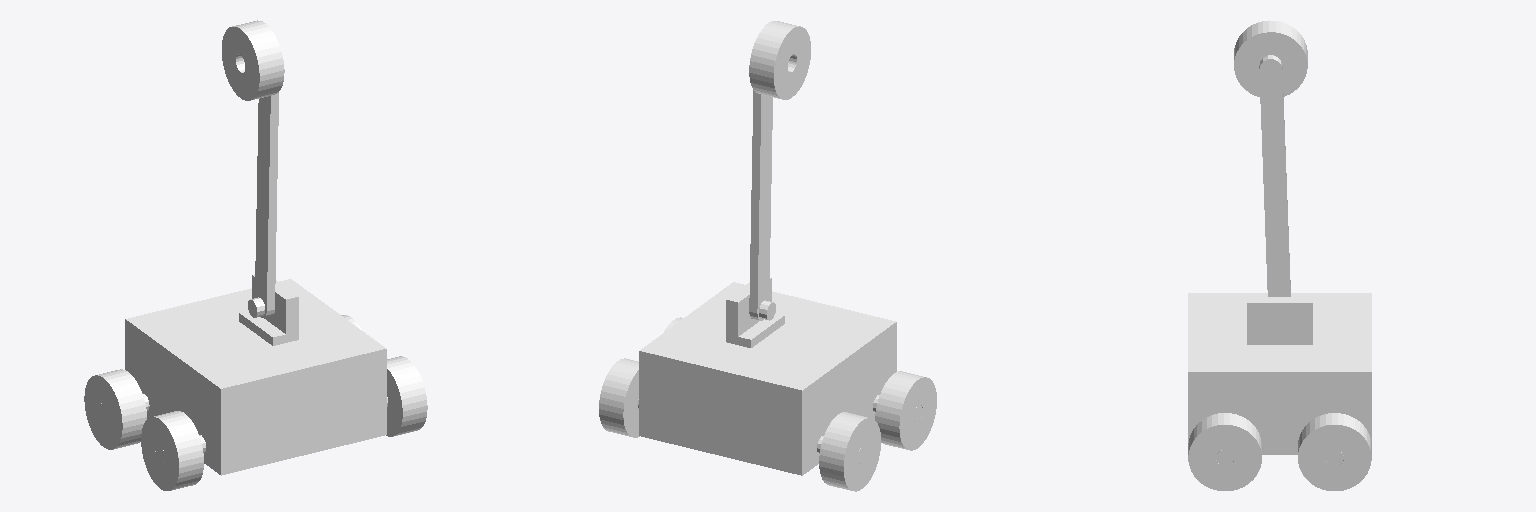
robot.urdf — cart_pole:
<?xml version="1.0" encoding="utf-8"?>
<!-- This URDF was automatically created by SolidWorks to URDF Exporter! Originally created by [author] ([email redacted]) 
     Commit Version: 1.6.0-4-g7f85cfe  Build Version: 1.6.7995.38578
     For more information, please see http://wiki.ros.org/sw_urdf_exporter -->
<robot
  name="cart_pole">
  <link
    name="cart_base">
    <inertial>
      <origin
        xyz="0.031587 -0.029208 -0.026207"
        rpy="0 0 0" />
      <mass
        value="0.1" />
      <inertia
        ixx="0.017372"
        ixy="-0.00010516"
        ixz="-2.9016E-18"
        iyy="0.027945"
        iyz="2.5673E-21"
        izz="0.018149" />
    </inertial>
    <visual>
      <origin
        xyz="0 0 0"
        rpy="0 0 0" />
      <geometry>
        <mesh
          filename="package://cart_pole/meshes/cart_base.STL" />
      </geometry>
      <material
        name="">
        <color
          rgba="1 1 1 1" />
      </material>
    </visual>
    <collision>
      <origin
        xyz="0 0 0"
        rpy="0 0 0" />
      <geometry>
        <mesh
          filename="package://cart_pole/meshes/cart_base.STL" />
      </geometry>
    </collision>
  </link>
  <link
    name="left_front_link">
    <inertial>
      <origin
        xyz="6.245E-17 0.015 4.1633E-17"
        rpy="0 0 0" />
      <mass
        value="0.02" />
      <inertia
        ixx="7.0686E-05"
        ixy="-3.1704E-21"
        ixz="-6.7763E-21"
        iyy="0.00012017"
        iyz="6.3162E-21"
        izz="7.0686E-05" />
    </inertial>
    <visual>
      <origin
        xyz="0 0 0"
        rpy="0 0 0" />
      <geometry>
        <mesh
          filename="package://cart_pole/meshes/left_front_link.STL" />
      </geometry>
      <material
        name="">
        <color
          rgba="1 1 1 1" />
      </material>
    </visual>
    <collision>
      <origin
        xyz="0 0 0"
        rpy="0 0 0" />
      <geometry>
        <mesh
          filename="package://cart_pole/meshes/left_front_link.STL" />
      </geometry>
    </collision>
  </link>
  <joint
    name="left_front_joint"
    type="continuous">
    <origin
      xyz="0.15124 -0.03312 -0.060033"
      rpy="0 -0.46823 -1.5708" />
    <parent
      link="cart_base" />
    <child
      link="left_front_link" />
    <axis
      xyz="0 1 0" />
  </joint>
  <link
    name="right_front_link">
    <inertial>
      <origin
        xyz="1.3878E-17 0.015 -6.9389E-18"
        rpy="0 0 0" />
      <mass
        value="0.02" />
      <inertia
        ixx="7.0686E-05"
        ixy="5.3672E-21"
        ixz="1.1235E-36"
        iyy="0.00012017"
        iyz="6.2384E-21"
        izz="7.0686E-05" />
    </inertial>
    <visual>
      <origin
        xyz="0 0 0"
        rpy="0 0 0" />
      <geometry>
        <mesh
          filename="package://cart_pole/meshes/right_front_link.STL" />
      </geometry>
      <material
        name="">
        <color
          rgba="1 1 1 1" />
      </material>
    </visual>
    <collision>
      <origin
        xyz="0 0 0"
        rpy="0 0 0" />
      <geometry>
        <mesh
          filename="package://cart_pole/meshes/right_front_link.STL" />
      </geometry>
    </collision>
  </link>
  <joint
    name="right_front_joint"
    type="continuous">
    <origin
      xyz="-0.088761 -0.03312 -0.060033"
      rpy="1.5708 -1.5708 0" />
    <parent
      link="cart_base" />
    <child
      link="right_front_link" />
    <axis
      xyz="0 -1 0" />
  </joint>
  <link
    name="left_rare_link">
    <inertial>
      <origin
        xyz="-1.3878E-17 0.015 0"
        rpy="0 0 0" />
      <mass
        value="0.02" />
      <inertia
        ixx="7.0686E-05"
        ixy="-5.3672E-21"
        ixz="-5.0342E-37"
        iyy="0.00012017"
        iyz="-7.8266E-21"
        izz="7.0686E-05" />
    </inertial>
    <visual>
      <origin
        xyz="0 0 0"
        rpy="0 0 0" />
      <geometry>
        <mesh
          filename="package://cart_pole/meshes/left_rare_link.STL" />
      </geometry>
      <material
        name="">
        <color
          rgba="1 1 1 1" />
      </material>
    </visual>
    <collision>
      <origin
        xyz="0 0 0"
        rpy="0 0 0" />
      <geometry>
        <mesh
          filename="package://cart_pole/meshes/left_rare_link.STL" />
      </geometry>
    </collision>
  </link>
  <joint
    name="left_rare_joint"
    type="continuous">
    <origin
      xyz="0.15124 0.085535 -0.060033"
      rpy="1.5708 1.5708 0" />
    <parent
      link="cart_base" />
    <child
      link="left_rare_link" />
    <axis
      xyz="0 1 0" />
  </joint>
  <link
    name="right_rare_link">
    <inertial>
      <origin
        xyz="0 -0.015 6.9389E-17"
        rpy="0 0 0" />
      <mass
        value="0.02" />
      <inertia
        ixx="7.0686E-05"
        ixy="1.0298E-21"
        ixz="-6.3527E-22"
        iyy="0.00012017"
        iyz="-2.7472E-19"
        izz="7.0686E-05" />
    </inertial>
    <visual>
      <origin
        xyz="0 0 0"
        rpy="0 0 0" />
      <geometry>
        <mesh
          filename="package://cart_pole/meshes/right_rare_link.STL" />
      </geometry>
      <material
        name="">
        <color
          rgba="1 1 1 1" />
      </material>
    </visual>
    <collision>
      <origin
        xyz="0 0 0"
        rpy="0 0 0" />
      <geometry>
        <mesh
          filename="package://cart_pole/meshes/right_rare_link.STL" />
      </geometry>
    </collision>
  </link>
  <joint
    name="right_rare_joint"
    type="continuous">
    <origin
      xyz="-0.088761 0.085535 -0.060033"
      rpy="-3.1416 0.024466 1.5708" />
    <parent
      link="cart_base" />
    <child
      link="right_rare_link" />
    <axis
      xyz="0 -1 0" />
  </joint>
  <link
    name="pole_link">
    <inertial>
      <origin
        xyz="0.0054399 -0.019263 -0.16005"
        rpy="0 0 0" />
      <mass
        value="0.02" />
      <inertia
        ixx="0.00065162"
        ixy="-2.6311E-07"
        ixz="2.196E-05"
        iyy="0.00065507"
        iyz="7.741E-06"
        izz="6.265E-06" />
    </inertial>
    <visual>
      <origin
        xyz="0 0 0"
        rpy="0 0 0" />
      <geometry>
        <mesh
          filename="package://cart_pole/meshes/pole_link.STL" />
      </geometry>
      <material
        name="">
        <color
          rgba="1 1 1 1" />
      </material>
    </visual>
    <collision>
      <origin
        xyz="0 0 0"
        rpy="0 0 0" />
      <geometry>
        <mesh
          filename="package://cart_pole/meshes/pole_link.STL" />
      </geometry>
    </collision>
  </link>
  <joint
    name="pole_joint"
    type="continuous">
    <origin
      xyz="0.0219625763412828 0.0262072412622274 0.0499669419773955"
      rpy="3.14159265358979 0 -1.5707963267949" />
    <parent
      link="cart_base" />
    <child
      link="pole_link" />
    <axis
      xyz="0 1 0" />
  </joint>
  <link
    name="mass_link">
    <inertial>
      <origin
        xyz="-5.5511E-17 3.4694E-18 0"
        rpy="0 0 0" />
      <mass
        value="0.05" />
      <inertia
        ixx="7.0686E-05"
        ixy="-1.5364E-23"
        ixz="-1.0588E-22"
        iyy="0.00012017"
        iyz="-1.3763E-21"
        izz="7.0686E-05" />
    </inertial>
    <visual>
      <origin
        xyz="0 0 0"
        rpy="0 0 0" />
      <geometry>
        <mesh
          filename="package://cart_pole/meshes/mass_link.STL" />
      </geometry>
      <material
        name="">
        <color
          rgba="1 1 1 1" />
      </material>
    </visual>
    <collision>
      <origin
        xyz="0 0 0"
        rpy="0 0 0" />
      <geometry>
        <mesh
          filename="package://cart_pole/meshes/mass_link.STL" />
      </geometry>
    </collision>
  </link>
  <joint
    name="mass_joint"
    type="fixed">
    <origin
      xyz="0.0099066 0 -0.29147"
      rpy="0 1.1191 0" />
    <parent
      link="pole_link" />
    <child
      link="mass_link" />
    <axis
      xyz="0 1 0" />
  </joint>
</robot>

--- What the picture shows (computed from the rendered views, not written in the file) ---
3 views of the same robot in one strip: view 1: azimuth 30°, elevation 25°; view 2: azimuth 150°, elevation 25°; view 3: azimuth 270°, elevation 25° (orthographic).
Robot: cart_pole — 7 links, 6 joints (5 continuous, 1 fixed); root link cart_base; default pose: all joints at 0.
Visible links, largest first — view 1: cart_base, pole_link, mass_link, right_front_link, right_rare_link, left_front_link; view 2: cart_base, pole_link, mass_link, right_rare_link, right_front_link, left_rare_link; view 3: cart_base, pole_link, left_front_link, left_rare_link, mass_link.
Boxes of the visible links, x1=… form: cart_base: x1=99, y1=274, x2=387, y2=475; pole_link: x1=255, y1=93, x2=278, y2=317; mass_link: x1=222, y1=20, x2=284, y2=100; right_front_link: x1=141, y1=411, x2=203, y2=490; right_rare_link: x1=84, y1=369, x2=146, y2=449; left_front_link: x1=386, y1=356, x2=427, y2=436; cart_base: x1=637, y1=278, x2=922, y2=475; pole_link: x1=749, y1=90, x2=772, y2=320; mass_link: x1=749, y1=21, x2=810, y2=99; right_rare_link: x1=819, y1=412, x2=880, y2=491; right_front_link: x1=875, y1=371, x2=936, y2=450; left_rare_link: x1=599, y1=358, x2=639, y2=437; cart_base: x1=1188, y1=293, x2=1371, y2=465; pole_link: x1=1259, y1=55, x2=1290, y2=296; left_front_link: x1=1188, y1=413, x2=1261, y2=490; left_rare_link: x1=1298, y1=413, x2=1371, y2=490; mass_link: x1=1234, y1=20, x2=1307, y2=96.
Size in the robot's own frame: 0.3 by 0.2 by 0.4814 metres.
7 mesh visuals loaded from 7 distinct referenced files (7 binary STL).